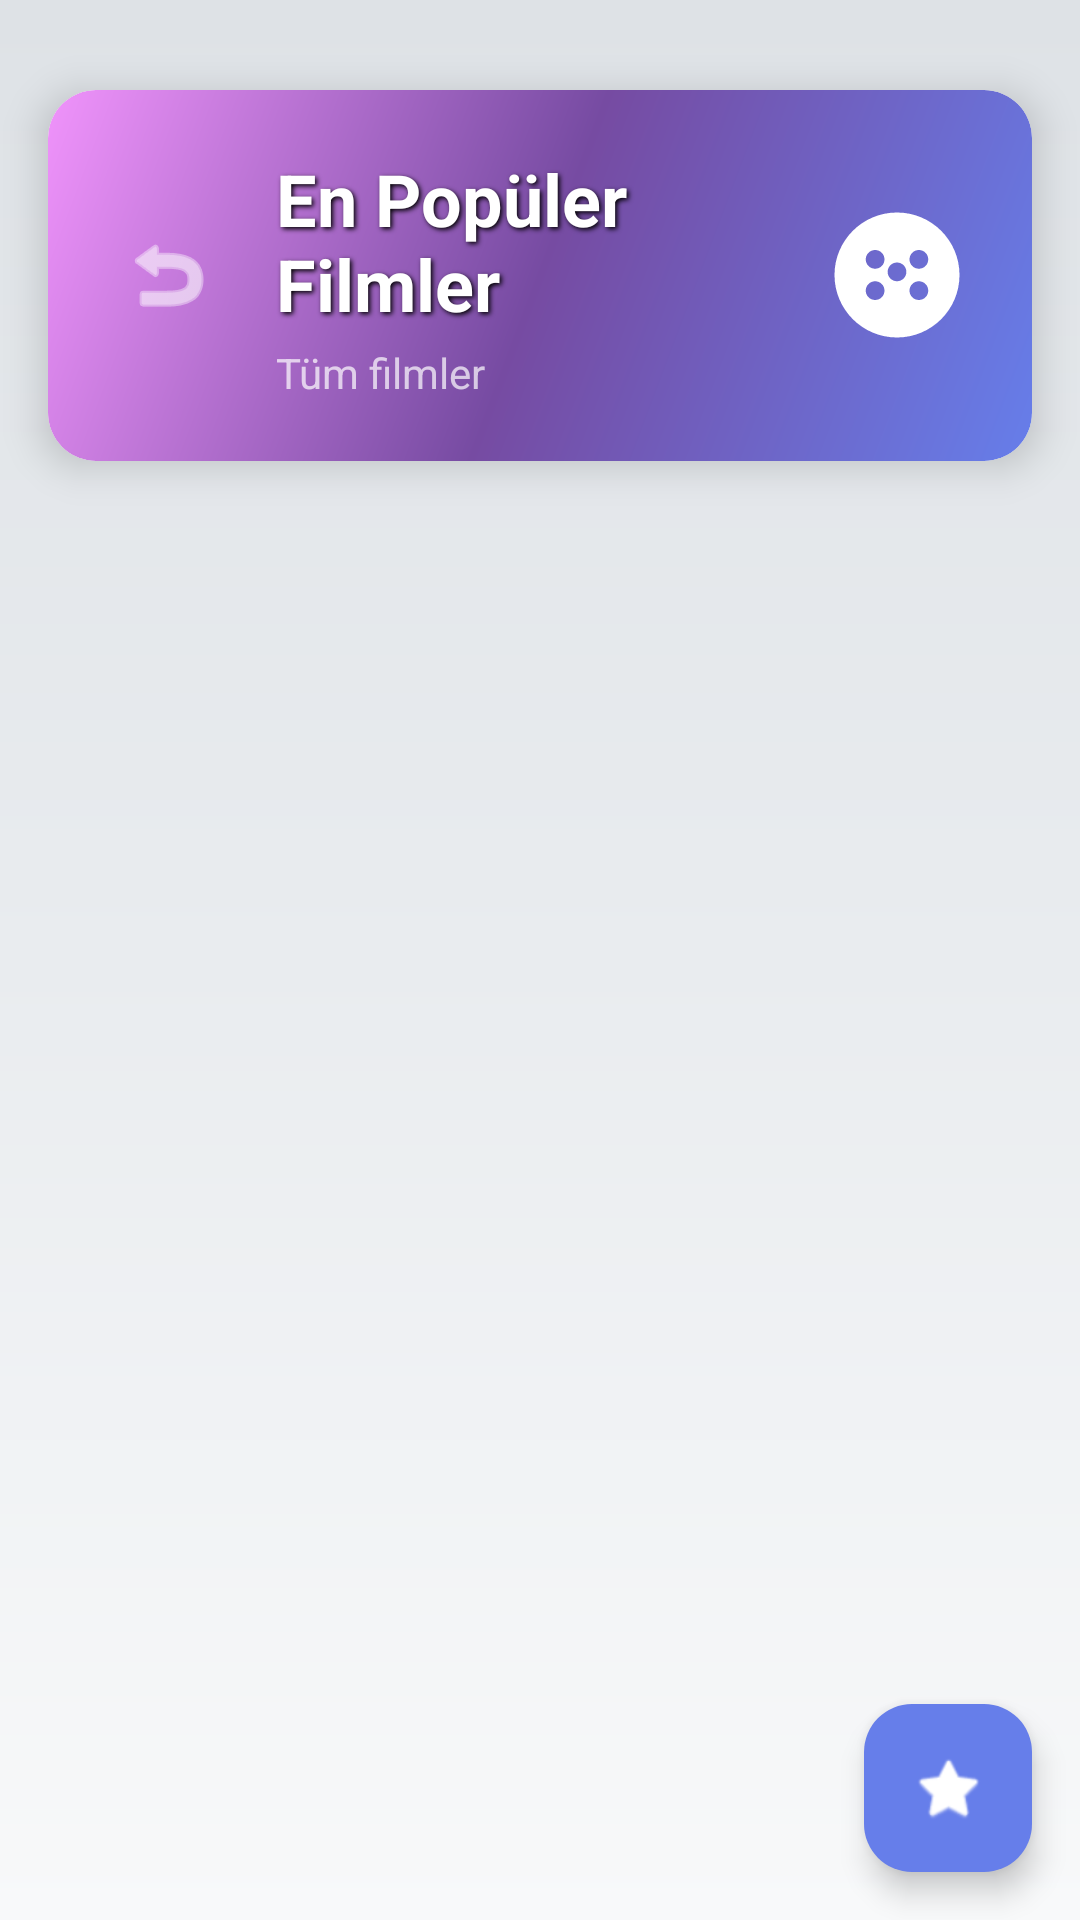

Icon bounding boxes for this 1080px x 1920px phone screenshot, format box(x1, y1, x2, y2):
Favoriler: box(864, 1704, 1032, 1872)
revert: box(135, 244, 204, 307)
